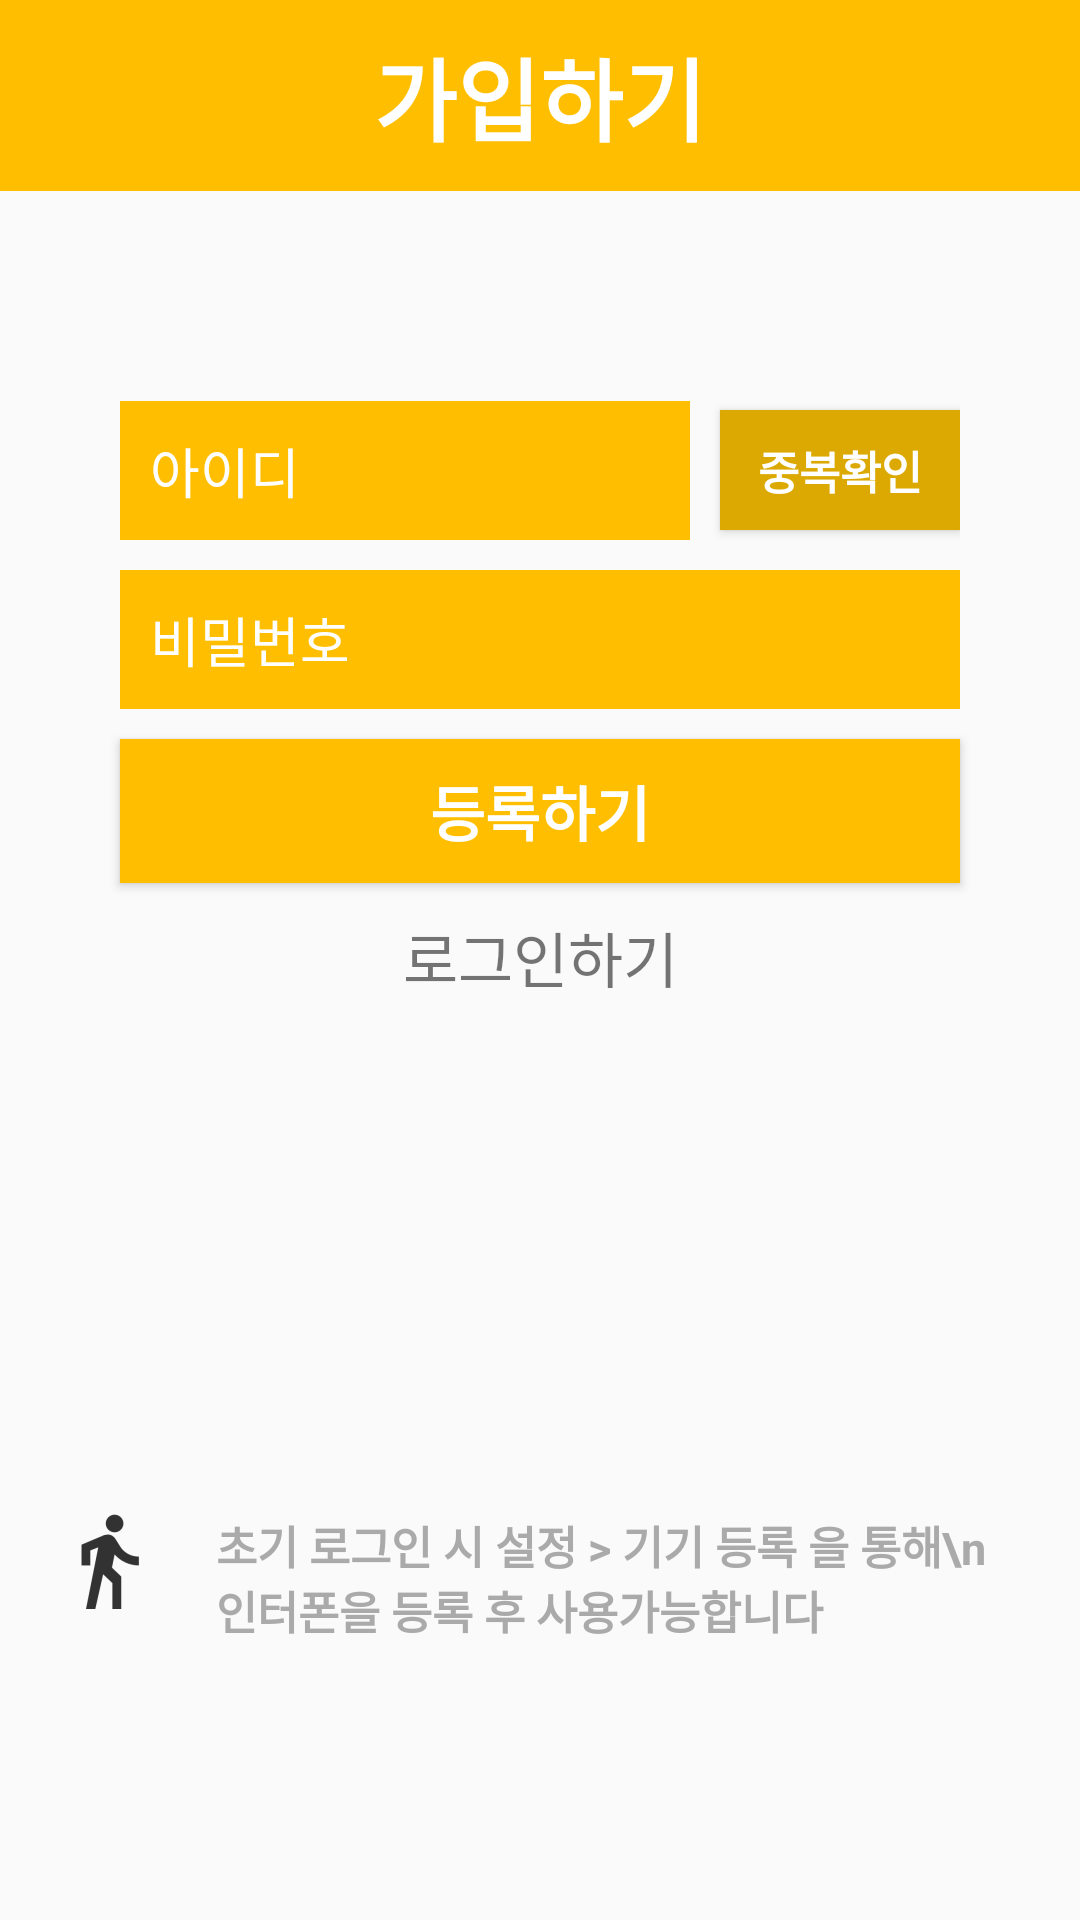

Named icons in this screenshot (1080 × 1920) and their centers, (x=x, y=y):
guest: (x=110, y=1561)
